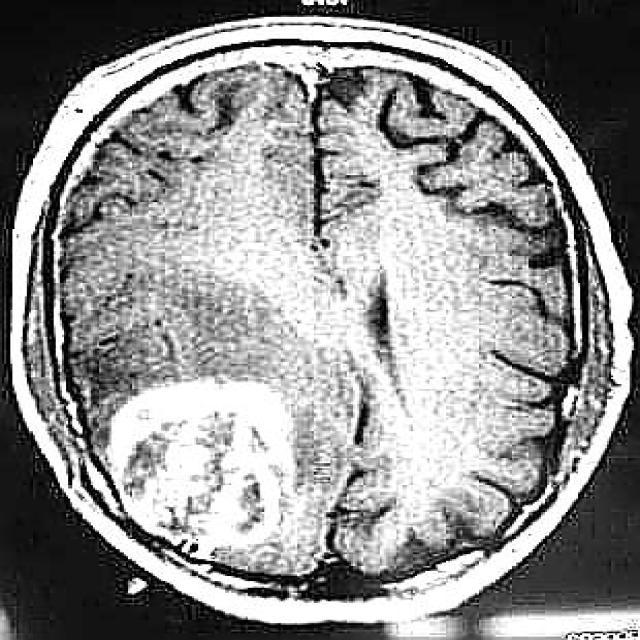brain tumor: (103, 377, 297, 552)
